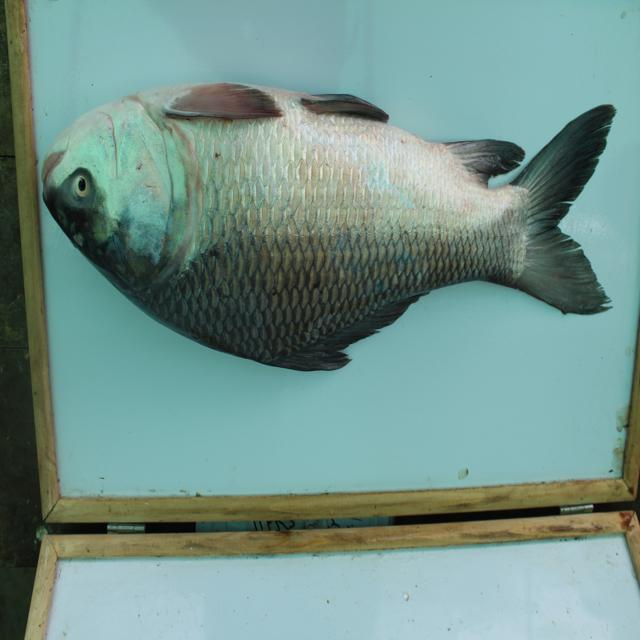Catla: (40, 74, 616, 373)
